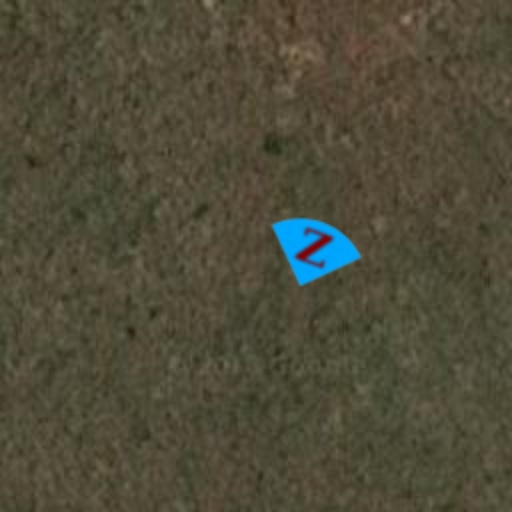quarter_circle: (256, 190, 372, 306)
